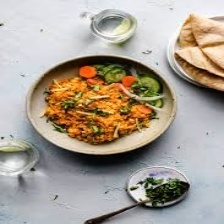sabzi: (43, 75, 155, 145)
